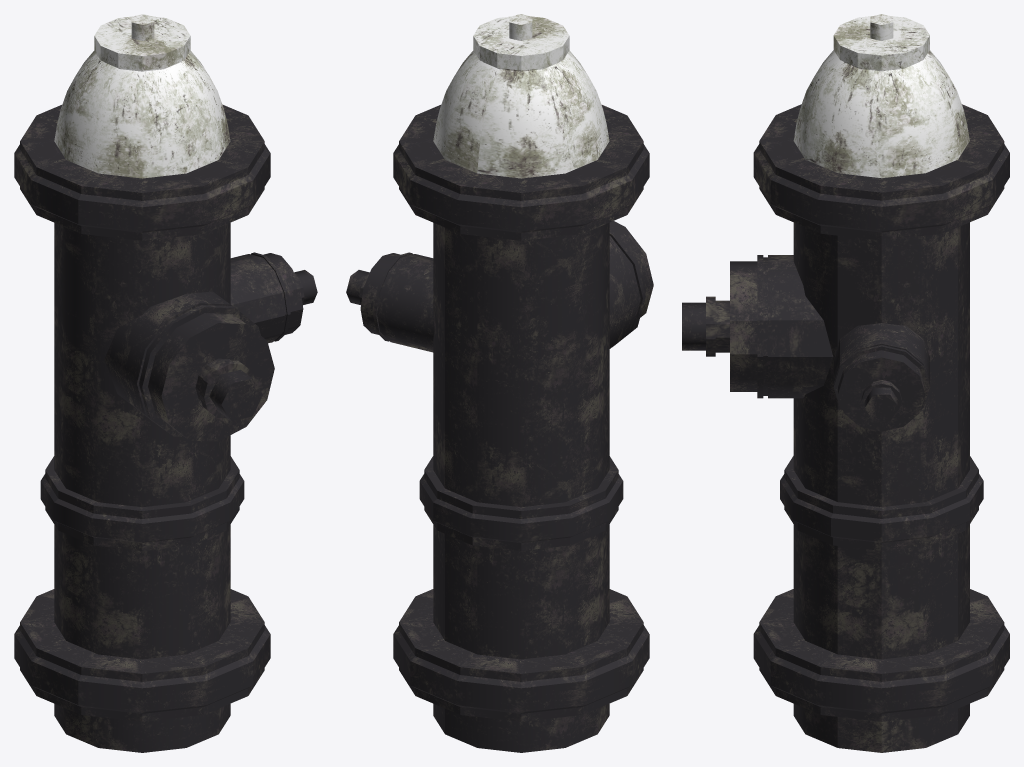
File: jueunFireHydrant.fbx
3 renders of one model, left to right at view 1: azimuth 30°, elevation 25°; view 2: azimuth 150°, elevation 25°; view 3: azimuth 270°, elevation 25°, orthographic.
Parts seen in each view (by area): view 1: jueunFireHydrant; view 2: jueunFireHydrant; view 3: jueunFireHydrant.
Part boxes in pixels (x1,y1,x2,y2): jueunFireHydrant: (14,14,317,752); jueunFireHydrant: (346,14,653,752); jueunFireHydrant: (682,14,1009,752).
Size of what is drawn, in the model's own units: 36.4 by 37.2 by 87.16.
